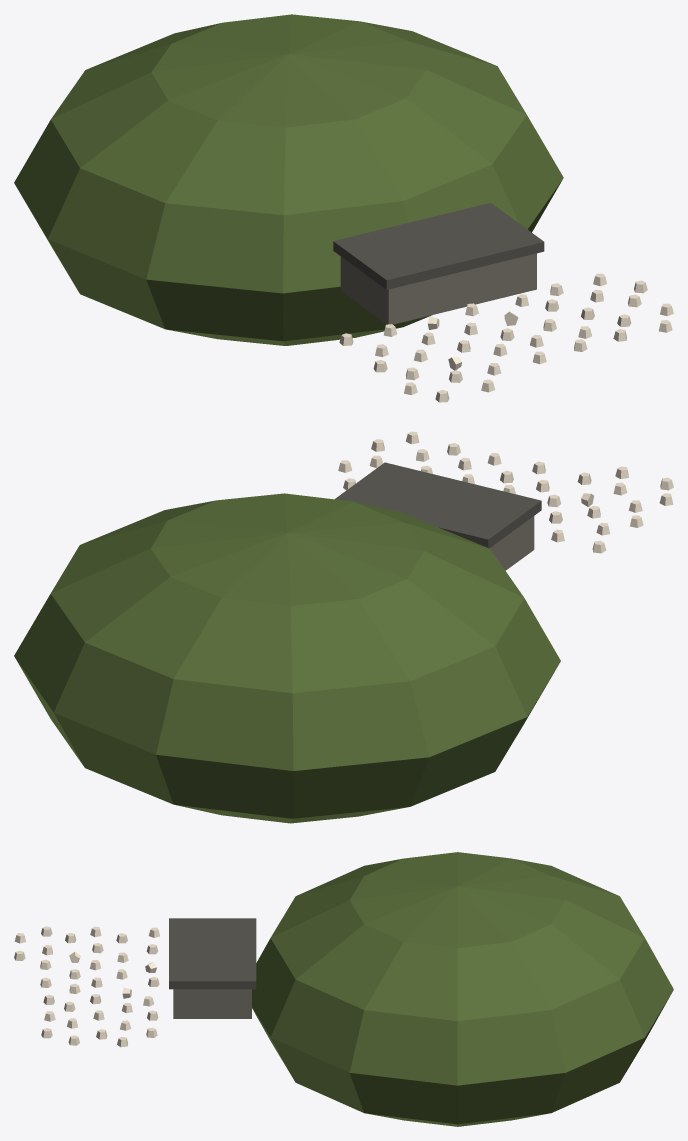
File: sanseong_big_mound.glb
The picture shows the model from 3 angles, top to bottom: view 1: azimuth 30°, elevation 25°; view 2: azimuth 150°, elevation 25°; view 3: azimuth 270°, elevation 25°; orthographic projection. The views are drawn at different scales.
Visible parts, largest first — view 1: sanseong_big_mound; view 2: sanseong_big_mound; view 3: sanseong_big_mound.
Part boxes in pixels (box(x1,y1,x2,y2)): sanseong_big_mound: box(14, 14, 673, 402); sanseong_big_mound: box(14, 431, 673, 823); sanseong_big_mound: box(14, 852, 673, 1126).
Bounding box in the file's own units: 5.2 × 2.6 × 7.54.
